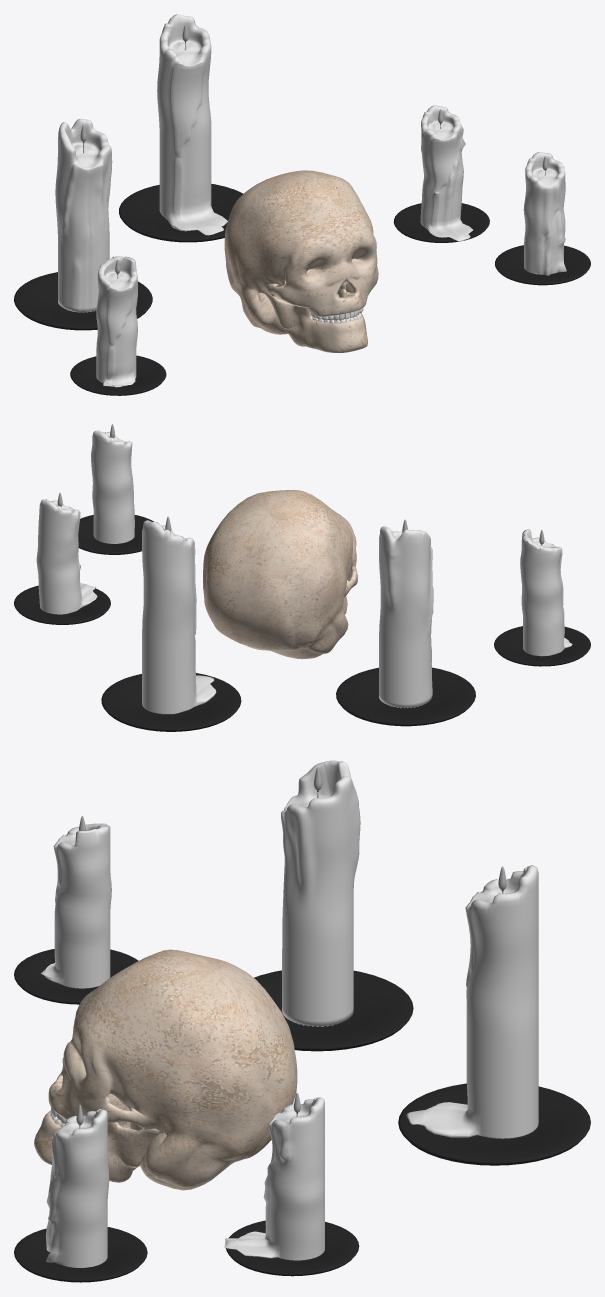
Rendered from skull_and_candles_setup.fbx.
3 views of the same model, one above another, from view 1: azimuth 30°, elevation 25°; view 2: azimuth 150°, elevation 25°; view 3: azimuth 270°, elevation 25° (orthographic). The views are drawn at different scales.
Parts seen in each view (by area): view 1: candle (×5), pCylinder3, hANLDE_HOLDER1, hANLDE_HOLDER, hANLDE_HOLDER3, hANLDE_HOLDER2, hANLDE_HOLDER4; view 2: candle (×5), pCylinder3, hANLDE_HOLDER, hANLDE_HOLDER1, hANLDE_HOLDER2, hANLDE_HOLDER4, hANLDE_HOLDER3; view 3: candle (×5), pCylinder3, hANLDE_HOLDER1, hANLDE_HOLDER, hANLDE_HOLDER3, hANLDE_HOLDER4, hANLDE_HOLDER2.
Part boxes in pixels (x1,y1,x2,y2): candle (×5): [55, 14, 566, 387]; pCylinder3: [224, 170, 378, 352]; hANLDE_HOLDER1: [119, 184, 243, 242]; hANLDE_HOLDER: [14, 272, 152, 330]; hANLDE_HOLDER3: [495, 245, 590, 285]; hANLDE_HOLDER2: [70, 355, 166, 395]; hANLDE_HOLDER4: [393, 203, 489, 242]; candle (×5): [36, 430, 572, 714]; pCylinder3: [203, 490, 357, 659]; hANLDE_HOLDER: [336, 667, 475, 726]; hANLDE_HOLDER1: [101, 673, 241, 731]; hANLDE_HOLDER2: [494, 626, 590, 666]; hANLDE_HOLDER4: [14, 585, 110, 624]; hANLDE_HOLDER3: [78, 515, 153, 554]; candle (×5): [41, 760, 538, 1267]; pCylinder3: [34, 949, 297, 1190]; hANLDE_HOLDER1: [398, 1083, 590, 1165]; hANLDE_HOLDER: [254, 970, 413, 1051]; hANLDE_HOLDER3: [14, 1227, 147, 1282]; hANLDE_HOLDER4: [226, 1220, 359, 1276]; hANLDE_HOLDER2: [14, 949, 138, 1004].
Size of the model in its own units: 22.37 by 9.25 by 15.85.
6 materials, 1 textured.
